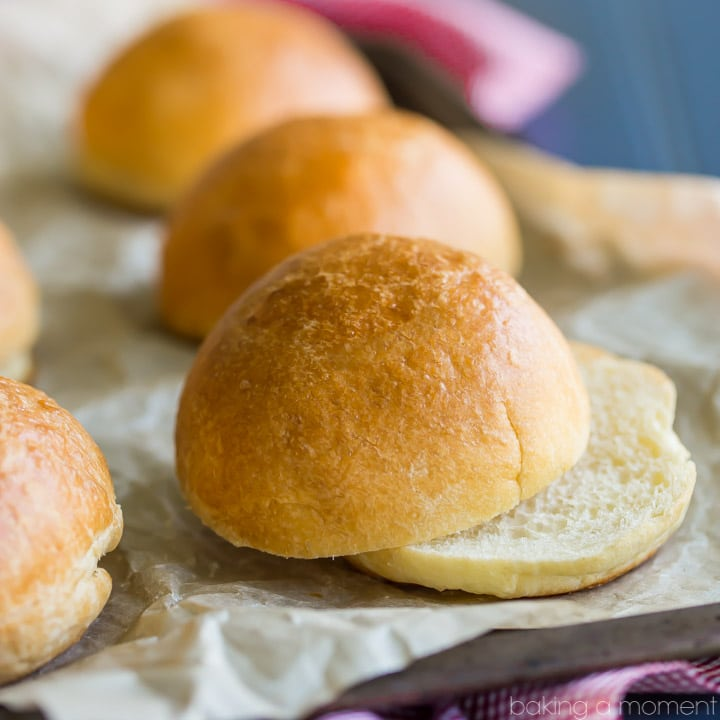hamburger_buns: (150, 226, 700, 603)
